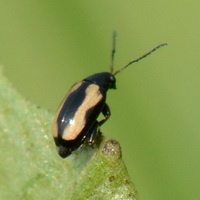insect: (53, 31, 166, 157)
